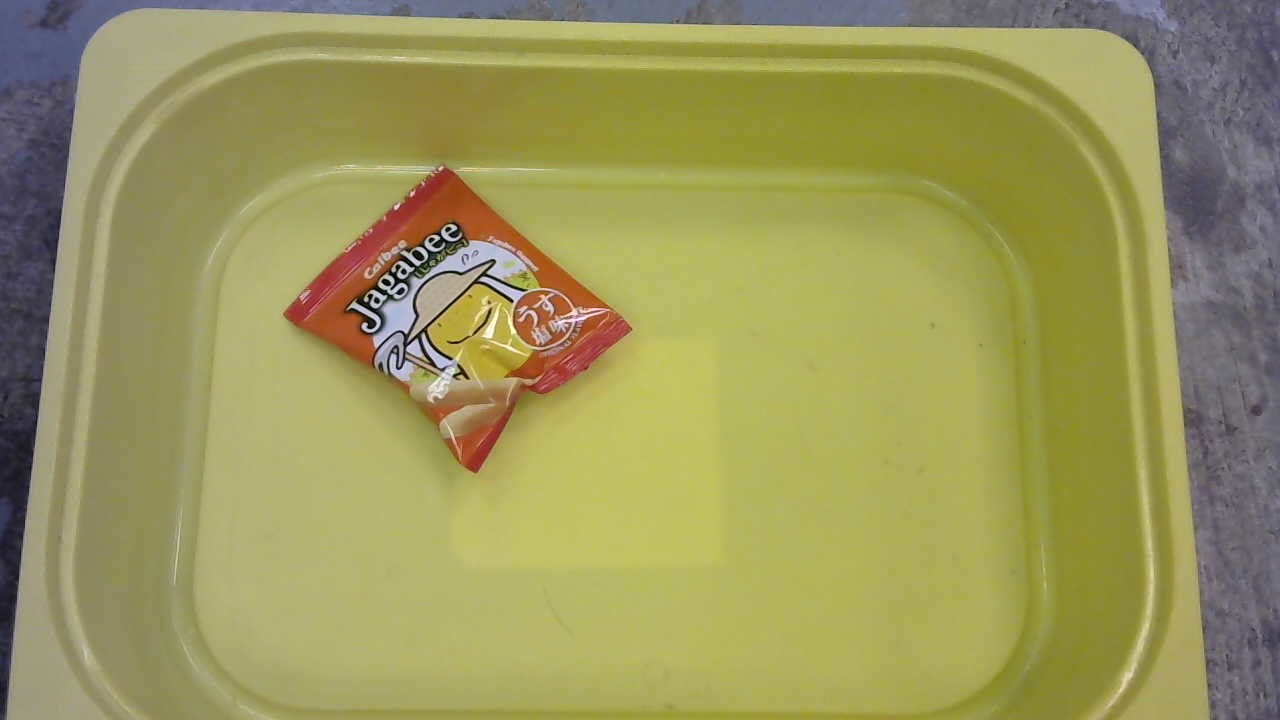JagabeeFarmer: (269, 157, 658, 483)
